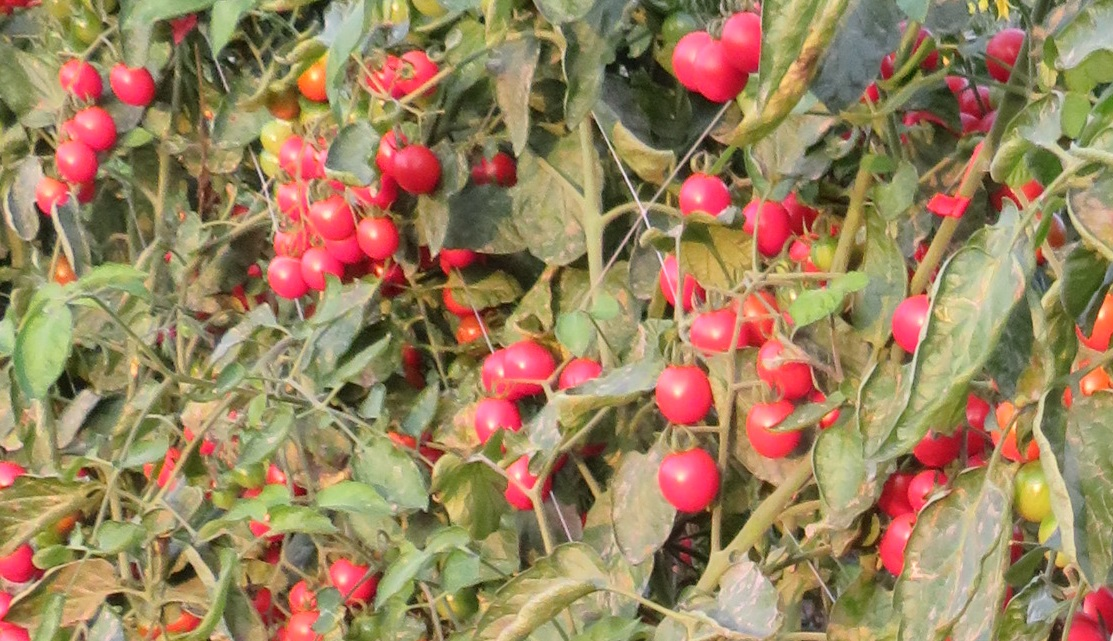green: (1012, 463, 1049, 518), (807, 236, 846, 269)
red: (659, 454, 727, 512), (655, 369, 717, 423), (692, 43, 748, 101), (745, 199, 798, 256), (472, 397, 522, 446), (879, 510, 919, 571), (748, 402, 797, 451), (892, 295, 933, 353), (392, 150, 443, 196), (504, 349, 555, 394), (725, 12, 763, 72), (988, 25, 1031, 78), (678, 174, 731, 216), (107, 66, 157, 107), (331, 562, 377, 606), (689, 315, 745, 350), (61, 59, 104, 104), (260, 256, 310, 294), (307, 198, 351, 239), (54, 143, 102, 179), (356, 220, 399, 259), (270, 181, 309, 218), (71, 110, 112, 145), (304, 248, 341, 285), (35, 176, 66, 206)
